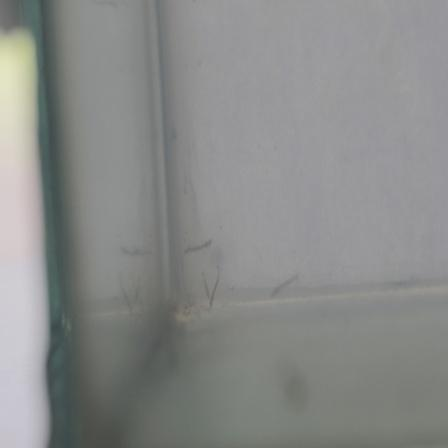Jentik-Nyamuk: (196, 264, 225, 310), (179, 232, 214, 257)
